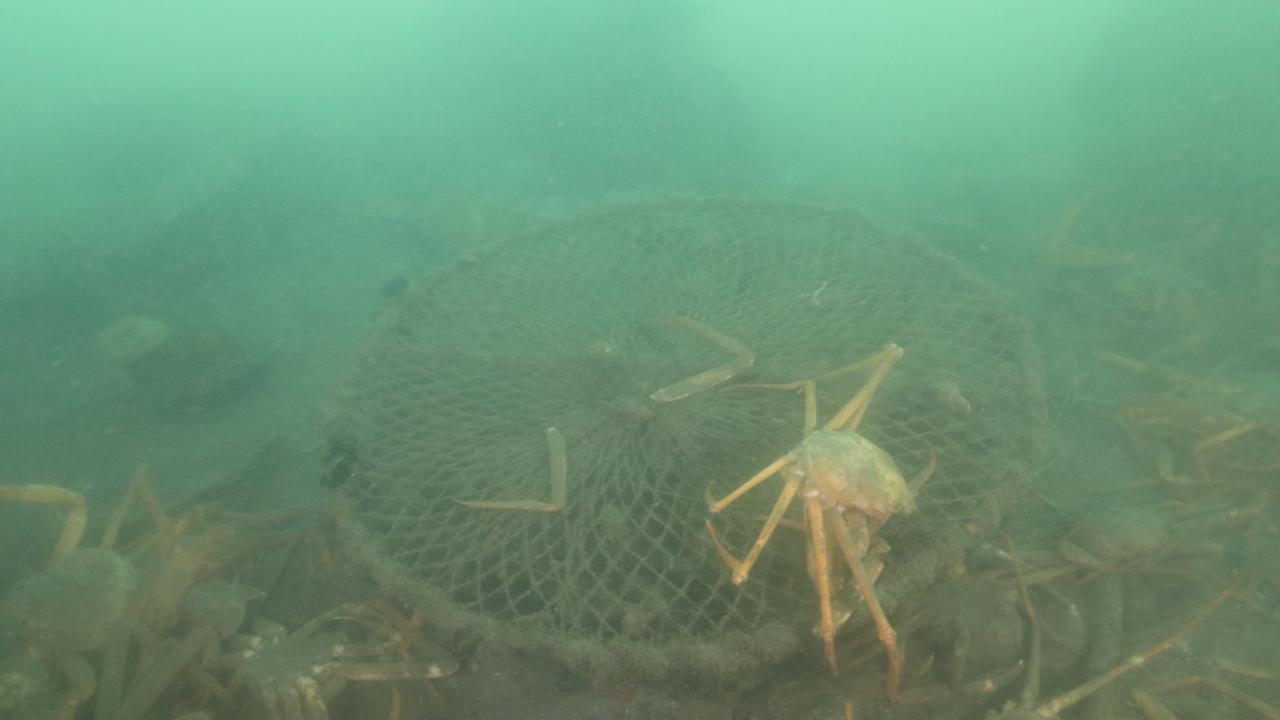circular fish trap: (318, 189, 1053, 676)
